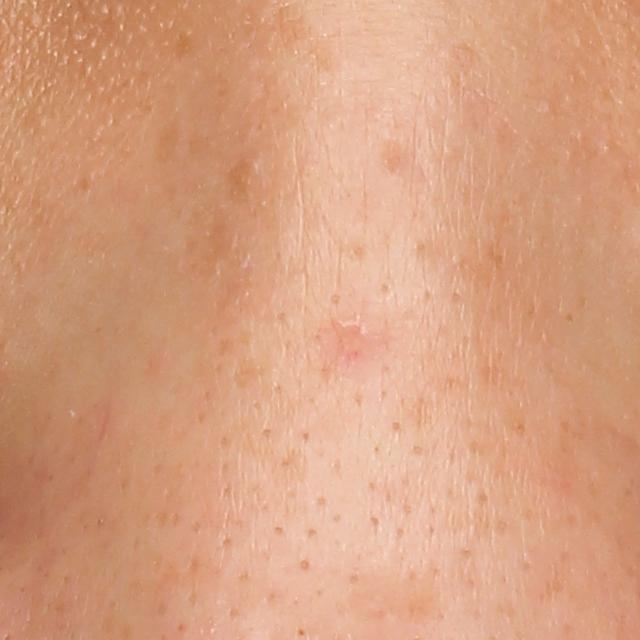melasma: (190, 216, 231, 284), (220, 156, 249, 203), (166, 26, 190, 57)
